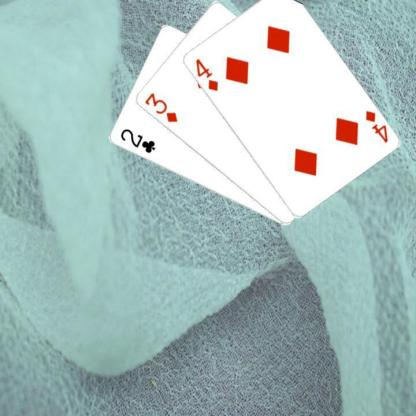2C: (117, 126, 157, 155)
3D: (142, 90, 178, 124)
4D: (362, 107, 389, 144), (192, 56, 219, 92)
